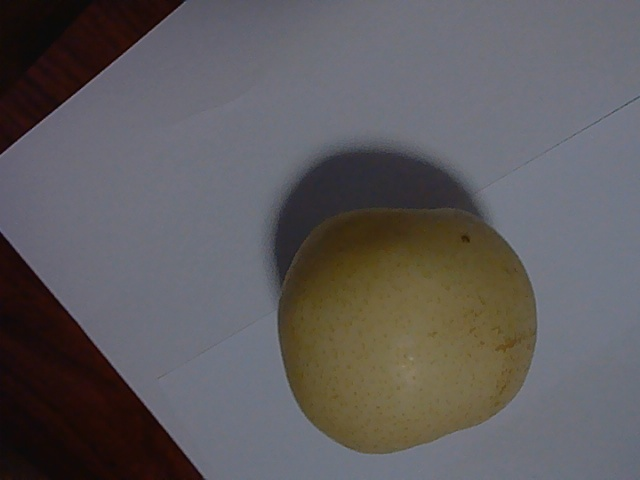pear: (274, 205, 542, 446)
